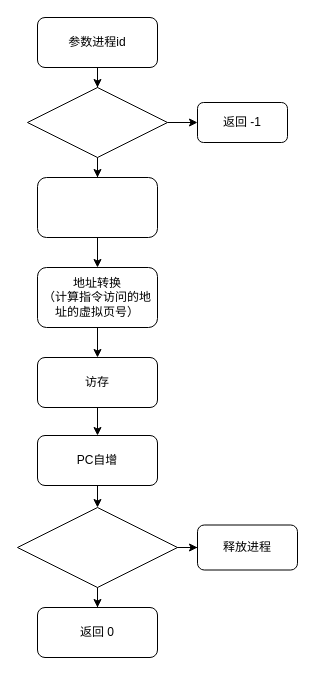
Some shapes in this 315 by 675 pixel diagram are drawn without their labels. The centre of each missing label's shape, as x and y in pixels:
"指令是否执行完 （PC是否等于指令数）" belongs at (x=97, y=547).
"进程是否存在" belongs at (x=97, y=122).
"通过PC拿到进程对应的程序的下一条指令" belongs at (x=97, y=207).
